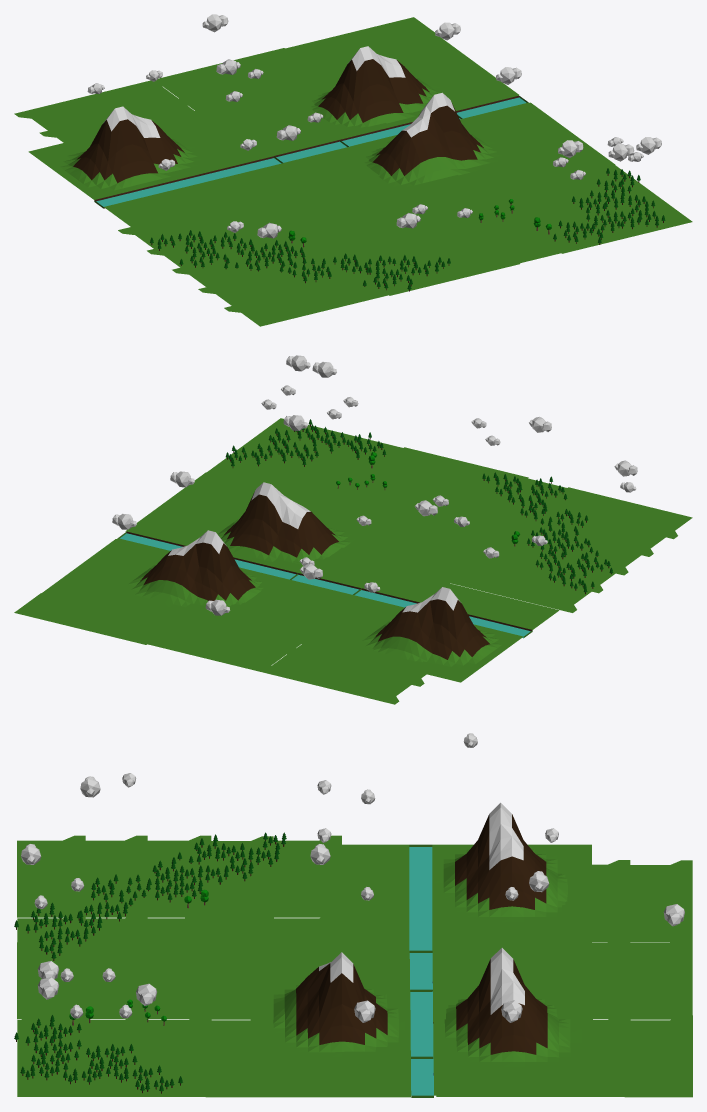
Rendered from newterrain.dae.
3 views of the same model, one above another, from view 1: azimuth 30°, elevation 25°; view 2: azimuth 150°, elevation 25°; view 3: azimuth 270°, elevation 25° (orthographic). The views are drawn at different scales.
Visible parts, largest first — view 1: Plane_003, Plane_032, Plane, Plane_011, Plane_012, Plane_005, Plane_025, Plane_019, Plane_001, Plane_016, Plane_036, Plane_015 (+20 smaller); view 2: Plane_003, Plane_032, Plane, Plane_005, Plane_035, Plane_025, Plane_012, Plane_011, Plane_036, Plane_023, Plane_015, Plane_022 (+20 smaller); view 3: Plane_003, Plane_032, Plane, Plane_025, Plane_035, Plane_014, Plane_015, Plane_005, Plane_016, Plane_023, Plane_022, Plane_001 (+21 smaller).
Part boxes in pixels (<box>): Plane_003: <box>28,106,299,226</box>; Plane_032: <box>310,46,556,153</box>; Plane: <box>272,92,528,203</box>; Plane_011: <box>224,274,390,326</box>; Plane_012: <box>396,233,562,284</box>; Plane_005: <box>118,196,284,248</box>; Plane_025: <box>171,67,334,117</box>; Plane_019: <box>370,213,537,264</box>; Plane_001: <box>198,256,364,307</box>; Plane_016: <box>319,175,485,225</box>; Plane_036: <box>14,81,178,130</box>; Plane_015: <box>485,163,640,214</box>; Plane_003: <box>302,571,559,682</box>; Plane_032: <box>55,511,303,613</box>; Plane: <box>217,482,414,595</box>; Plane_005: <box>441,561,591,612</box>; Plane_035: <box>288,635,438,686</box>; Plane_025: <box>163,605,313,655</box>; Plane_012: <box>378,447,528,498</box>; Plane_011: <box>542,487,692,539</box>; Plane_036: <box>263,654,411,704</box>; Plane_023: <box>138,622,285,673</box>; Plane_015: <box>204,454,352,503</box>; Plane_022: <box>14,593,160,644</box>; Plane_003: <box>341,802,591,952</box>; Plane_032: <box>342,948,593,1097</box>; Plane: <box>250,950,468,1058</box>; Plane_025: <box>562,937,630,1019</box>; Plane_035: <box>562,860,630,941</box>; Plane_014: <box>143,937,211,1019</box>; Plane_015: <box>143,1019,211,1096</box>; Plane_005: <box>273,835,341,917</box>; Plane_016: <box>205,937,273,1019</box>; Plane_023: <box>624,937,692,1019</box>; Plane_022: <box>625,1015,692,1097</box>; Plane_001: <box>79,835,147,917</box>.
Bounding box in the file's own units: 16.87 × 18.59 × 3.73.
